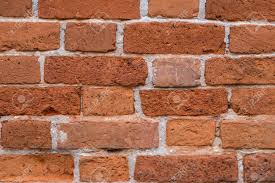brick: (124, 21, 225, 55), (44, 54, 147, 85), (56, 120, 160, 150), (134, 154, 239, 182), (140, 87, 229, 115), (1, 86, 82, 116), (1, 153, 75, 182), (206, 55, 275, 85), (37, 1, 141, 20), (219, 118, 275, 150), (1, 21, 60, 51), (1, 119, 53, 151), (65, 21, 118, 52), (164, 117, 216, 148), (152, 55, 201, 86), (83, 86, 136, 114), (78, 154, 130, 182), (230, 23, 275, 54), (203, 1, 274, 20), (232, 86, 275, 116), (1, 53, 40, 85), (244, 152, 275, 182), (147, 1, 199, 18), (1, 1, 32, 19)
